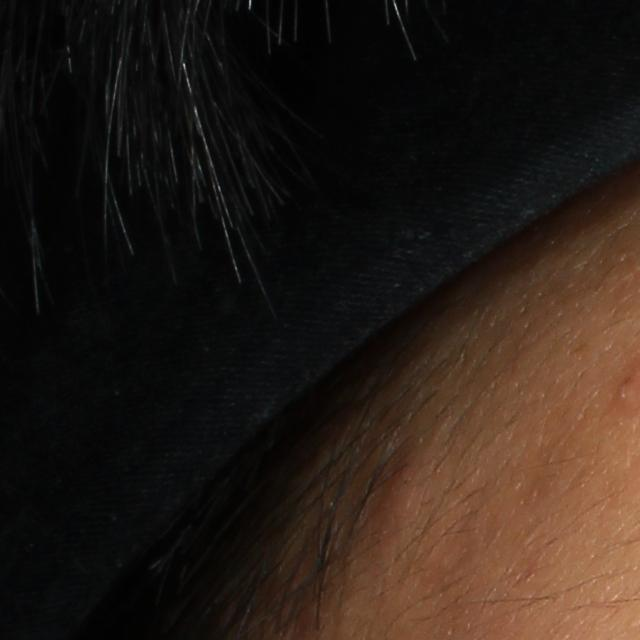papule: (371, 451, 432, 537)
